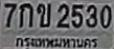0: (99, 4, 111, 28)
2: (56, 3, 68, 27)
3: (85, 4, 96, 27)
5: (71, 4, 83, 27)
7: (4, 2, 16, 27)
A01: (18, 2, 32, 27)
A02: (36, 2, 50, 27)
BKK: (13, 34, 99, 49)
